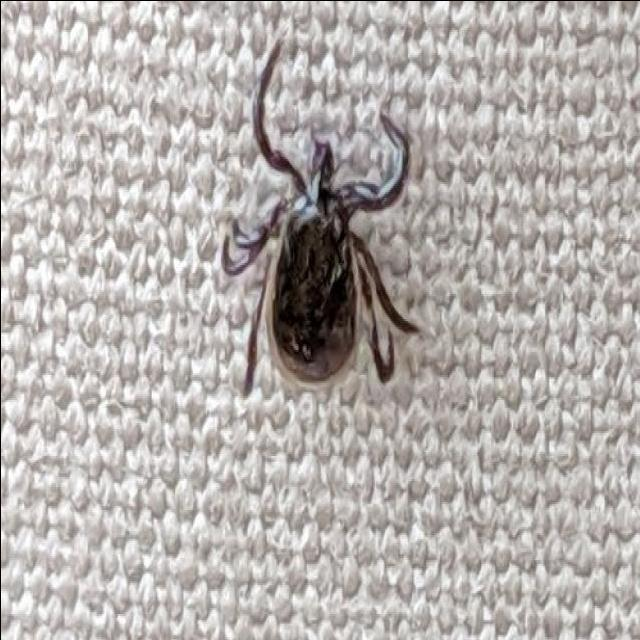Ixodes Ricinus-M: (221, 40, 419, 395)
